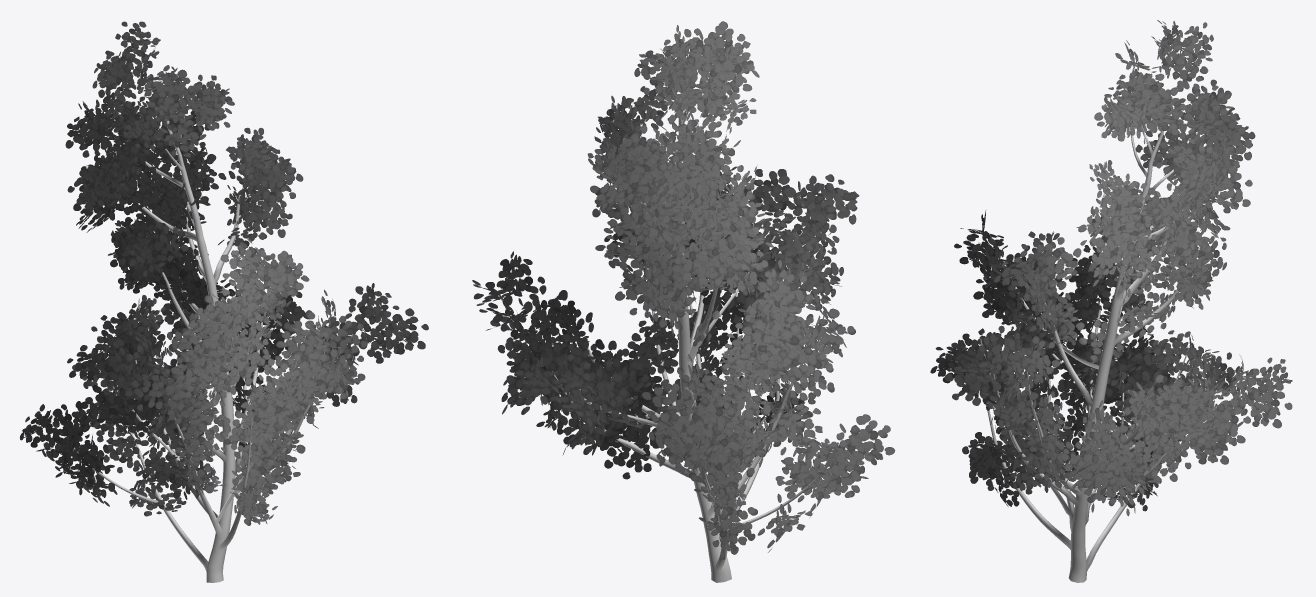
File: SM_HazelBush_02.fbx
3 renders of one model, left to right at view 1: azimuth 30°, elevation 25°; view 2: azimuth 150°, elevation 25°; view 3: azimuth 270°, elevation 25°, orthographic. The views are drawn at different scales.
Visible parts, largest first — view 1: SM_HazelBush_02_LOD0; view 2: SM_HazelBush_02_LOD0; view 3: SM_HazelBush_02_LOD0.
Part boxes in pixels (box(x1,y1,x2,y2)): SM_HazelBush_02_LOD0: box(20, 21, 428, 582); SM_HazelBush_02_LOD0: box(472, 21, 895, 582); SM_HazelBush_02_LOD0: box(930, 20, 1292, 582).
Size of what is drawn, in the model's own units: 4.83 by 6.15 by 3.78.
